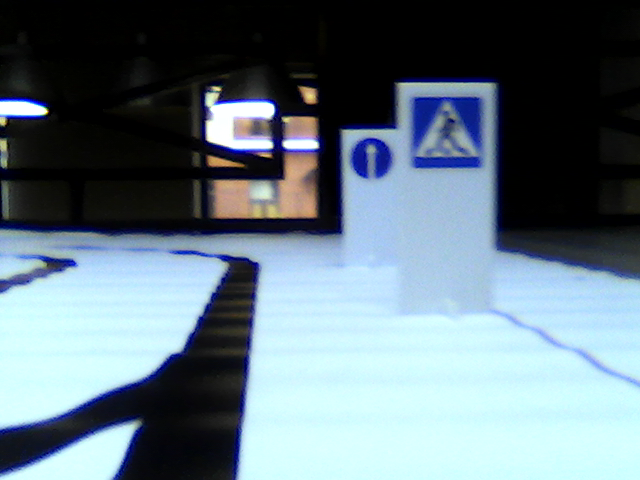forw: (348, 136, 396, 182)
pesh: (412, 95, 482, 167)
